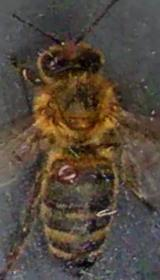varroa_mite: (52, 162, 85, 188)
